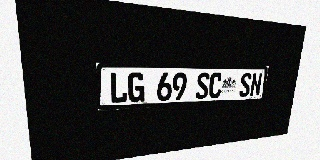6: (157, 72, 173, 101)
9: (172, 73, 187, 100)
C: (208, 73, 223, 99)
G: (128, 72, 145, 103)
L: (109, 72, 127, 104)
N: (249, 73, 263, 97)
S: (195, 73, 210, 99), (239, 73, 252, 97)
